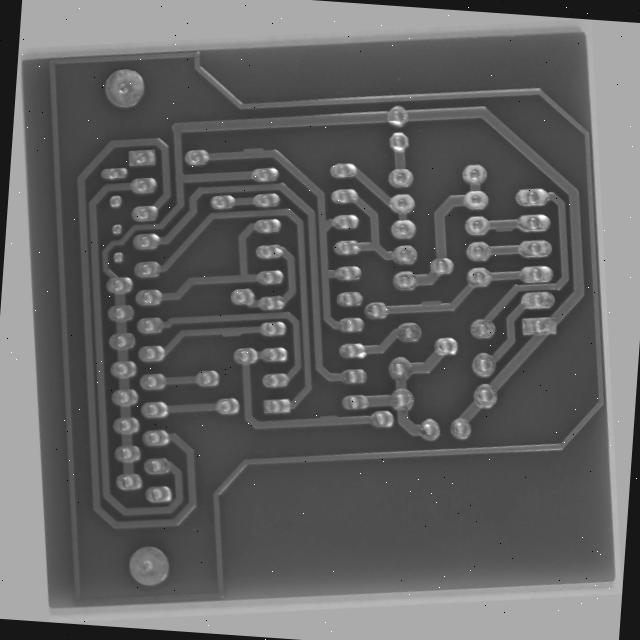spur: (427, 303, 461, 333), (524, 223, 551, 255), (303, 416, 331, 439), (205, 311, 236, 330), (255, 115, 284, 132)
